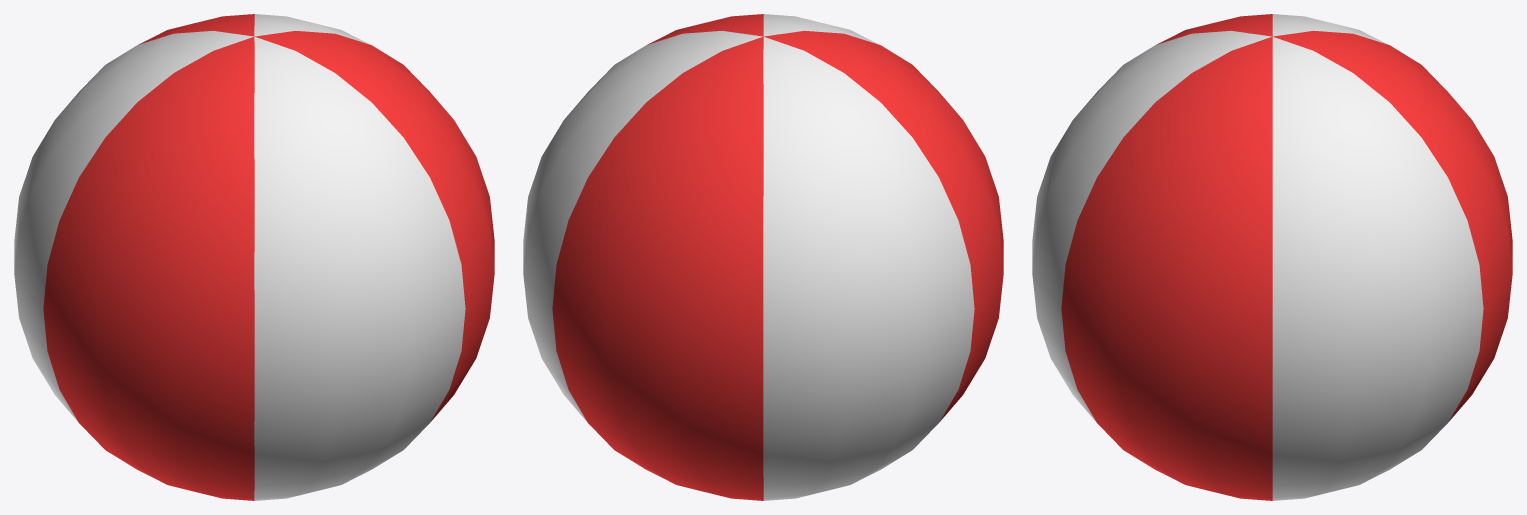
Rendered from Volleyball_Red.fbx.
3 renders of one model, left to right at view 1: azimuth 30°, elevation 25°; view 2: azimuth 150°, elevation 25°; view 3: azimuth 270°, elevation 25°, orthographic.
Visible parts, largest first — view 1: Volleyball_Red; view 2: Volleyball_Red; view 3: Volleyball_Red.
Part boxes in pixels (<box>): Volleyball_Red: <box>14,14,494,500</box>; Volleyball_Red: <box>523,14,1003,500</box>; Volleyball_Red: <box>1032,14,1512,500</box>.
Bounding box in the file's own units: 96.75 × 96.75 × 95.28.
